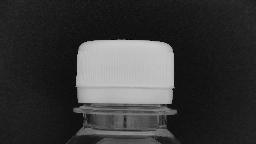Good Cap: (67, 34, 183, 118)
